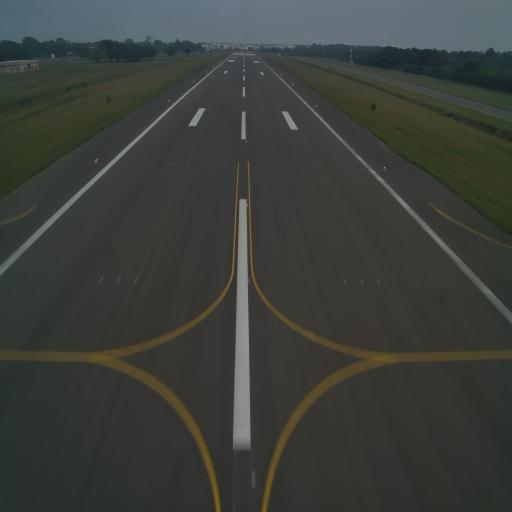off: (132, 272, 142, 288), (341, 272, 350, 289), (372, 273, 382, 288), (115, 272, 123, 288), (96, 272, 105, 286), (358, 272, 365, 290), (294, 163, 300, 173), (185, 158, 190, 169), (176, 159, 182, 168), (167, 158, 172, 168), (304, 162, 309, 171), (312, 163, 316, 172)
on: (246, 272, 254, 292), (381, 161, 388, 174), (243, 160, 249, 173), (94, 154, 100, 166), (244, 200, 250, 211), (243, 136, 248, 145)
